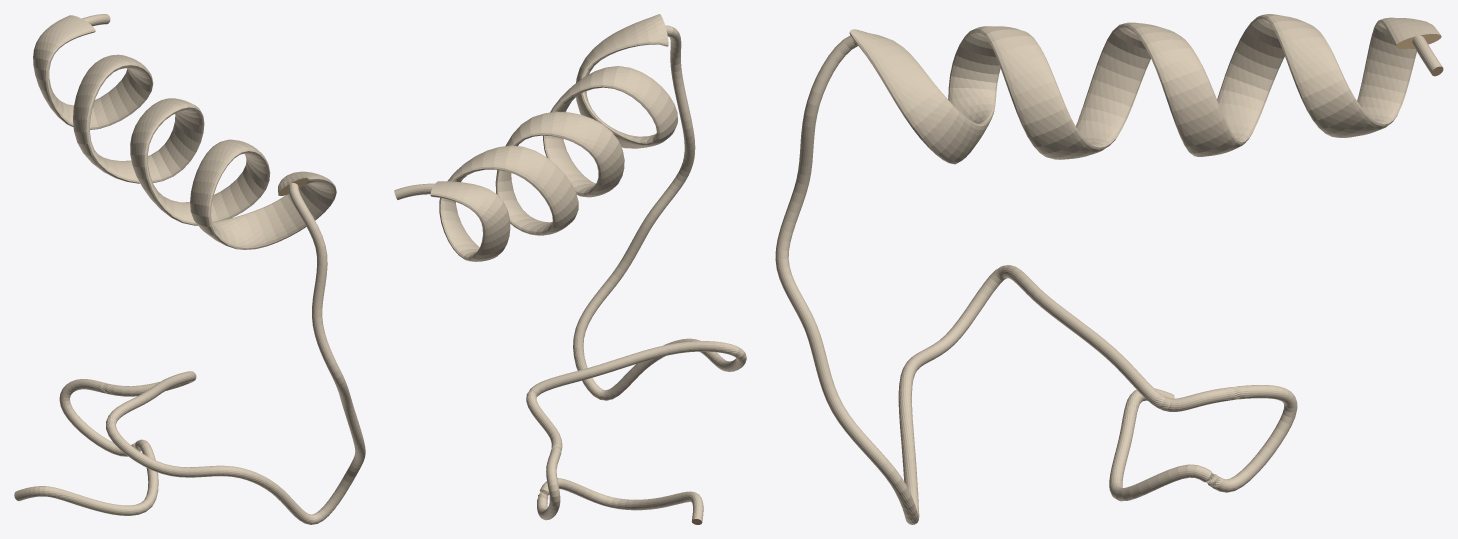
File: rCoilSheetfCoil.dae
3 views of the same model, side by side, from view 1: azimuth 30°, elevation 25°; view 2: azimuth 150°, elevation 25°; view 3: azimuth 270°, elevation 25° (orthographic). The views are drawn at different scales.
Visible parts, largest first — view 1: Shape_IndexedTriangleStripSet_036; view 2: Shape_IndexedTriangleStripSet_036; view 3: Shape_IndexedTriangleStripSet_036.
Part boxes in pixels (bbox=[...]): Shape_IndexedTriangleStripSet_036: bbox=[14, 14, 365, 524]; Shape_IndexedTriangleStripSet_036: bbox=[394, 14, 746, 524]; Shape_IndexedTriangleStripSet_036: bbox=[775, 14, 1443, 524].
Size of the model in its own units: 12.88 by 25.01 by 20.85.
